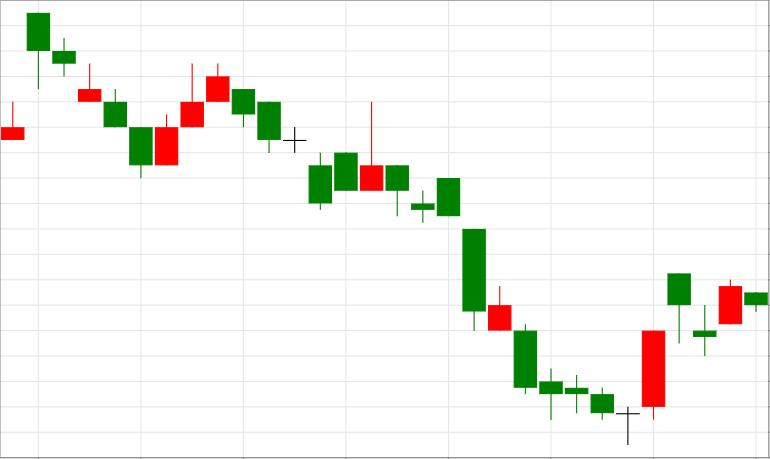morning_star_rise: (438, 179, 665, 444)
